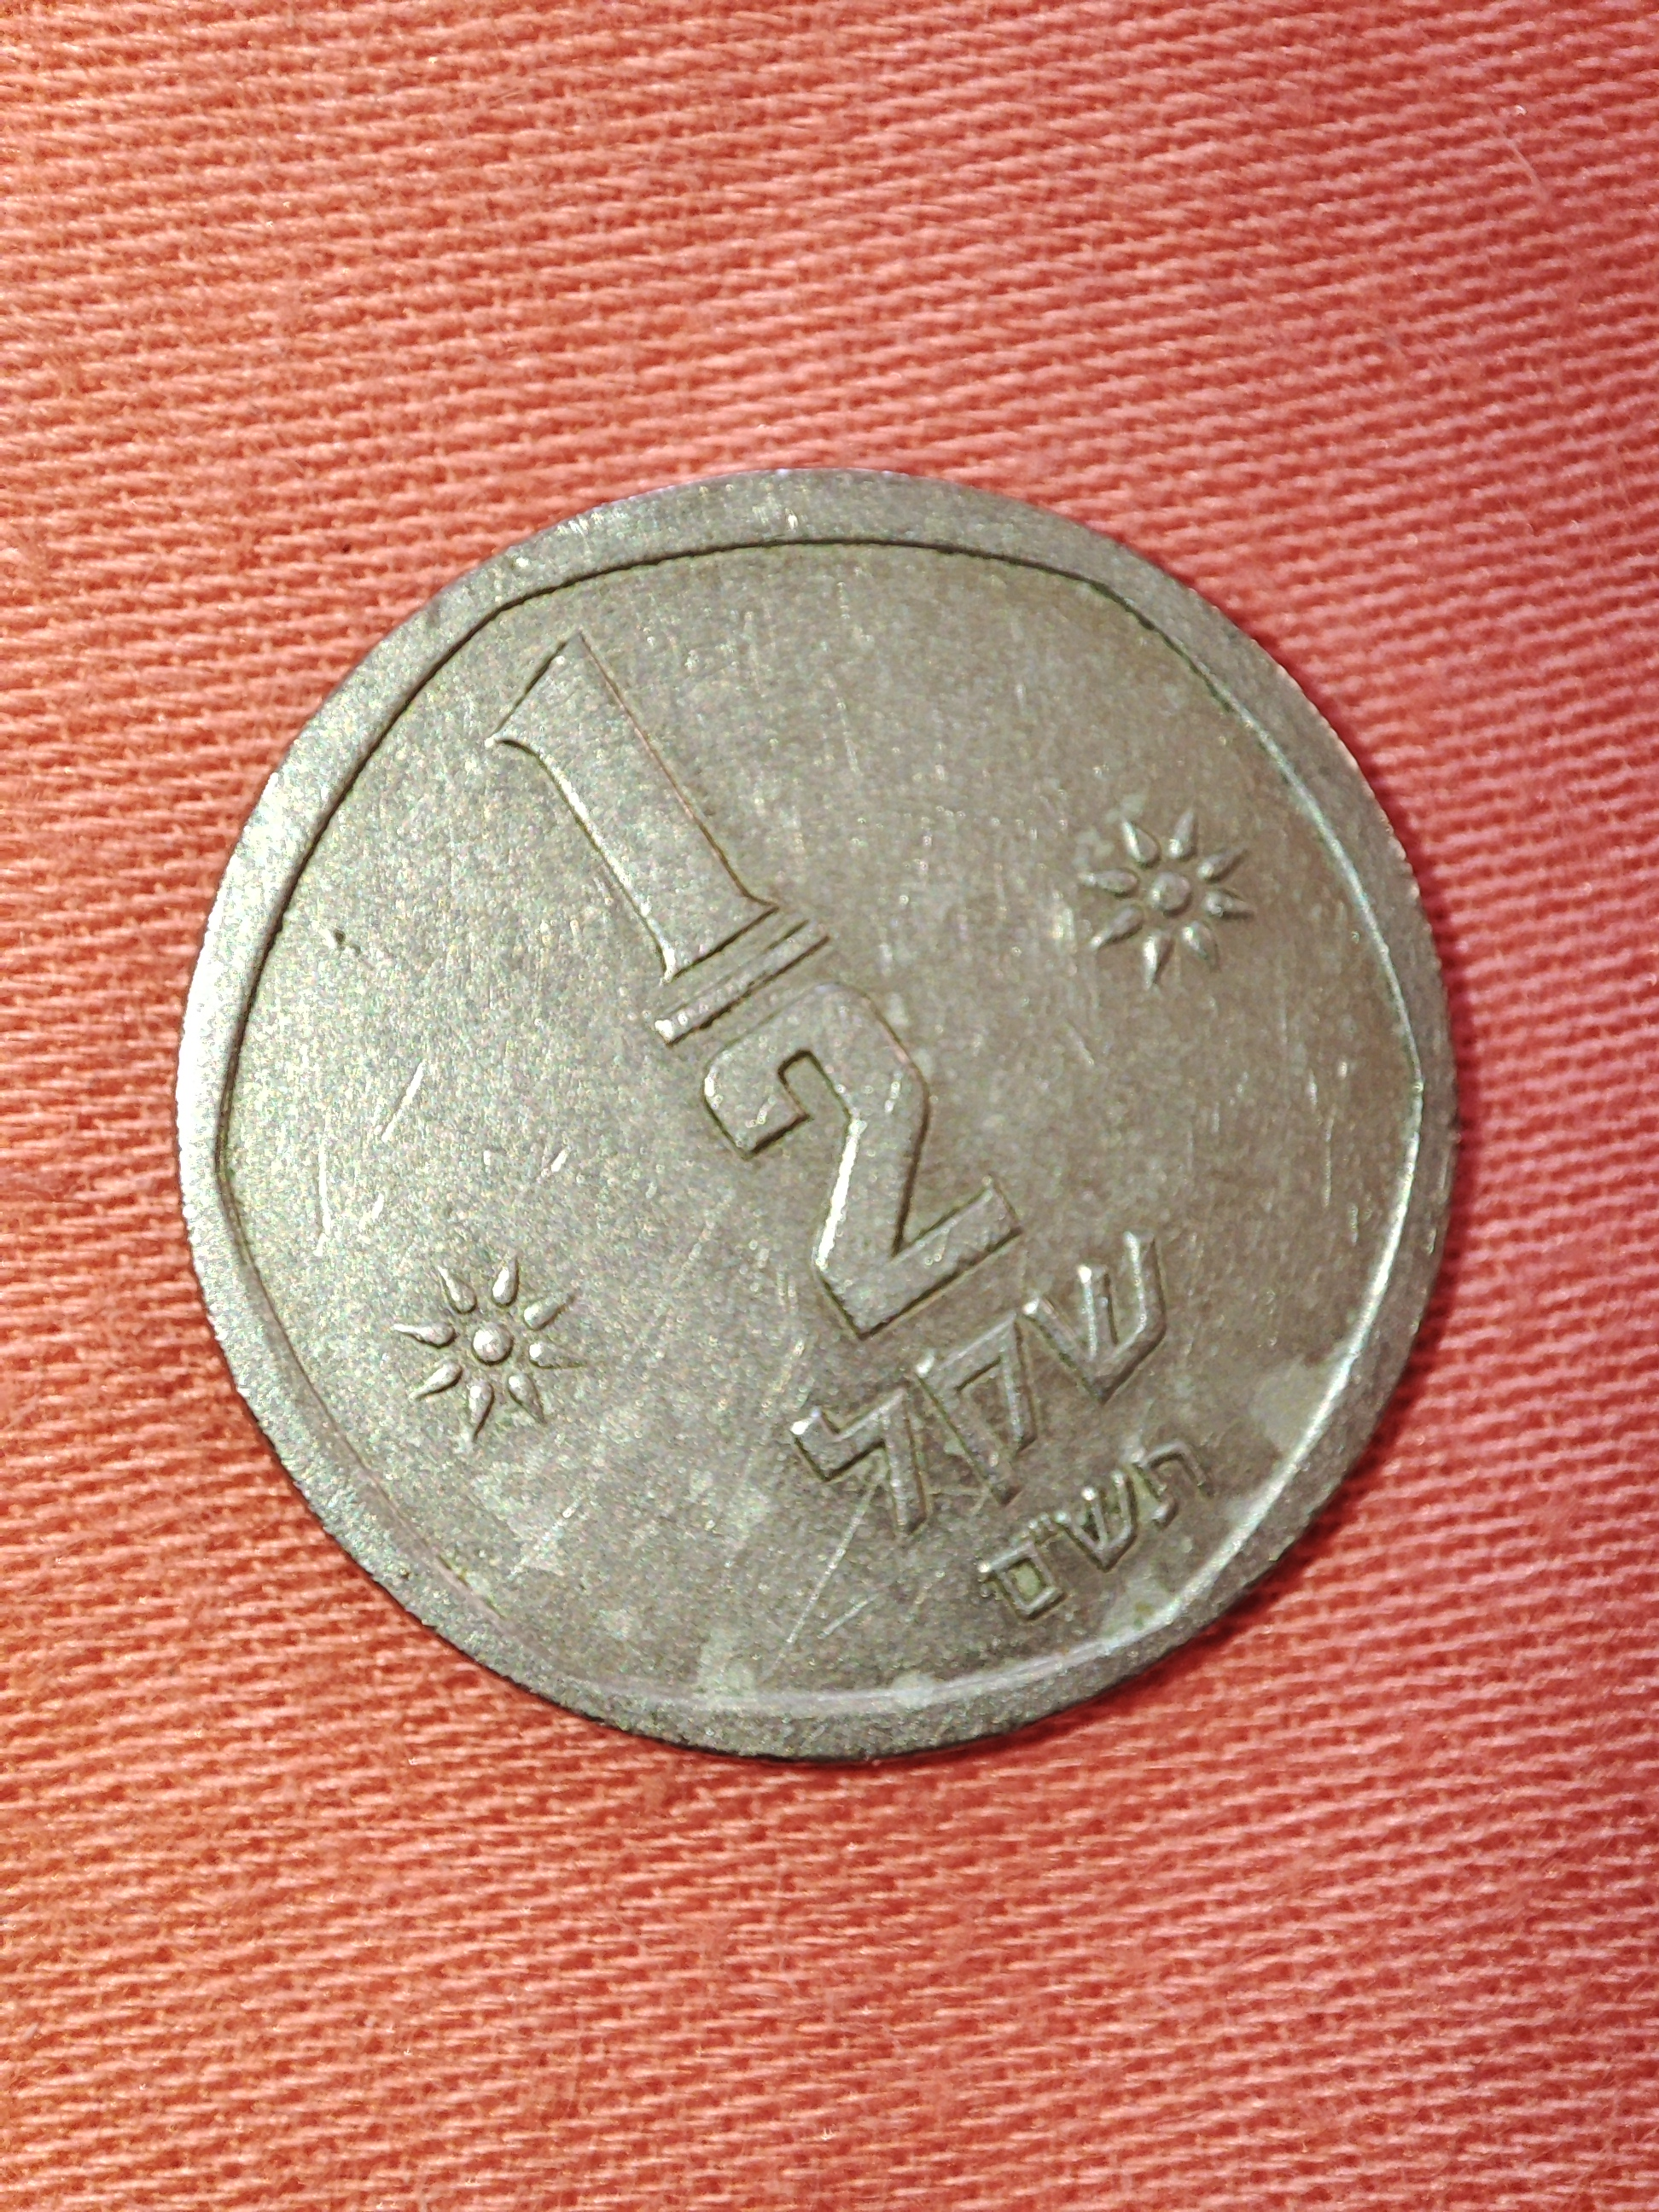1/2 old sheqel: (164, 455, 1467, 1759)
